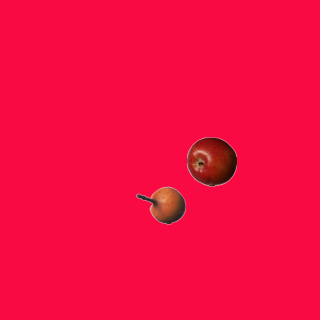Apple Braeburn: (186, 136, 236, 186)
Granadilla: (135, 180, 185, 230)
